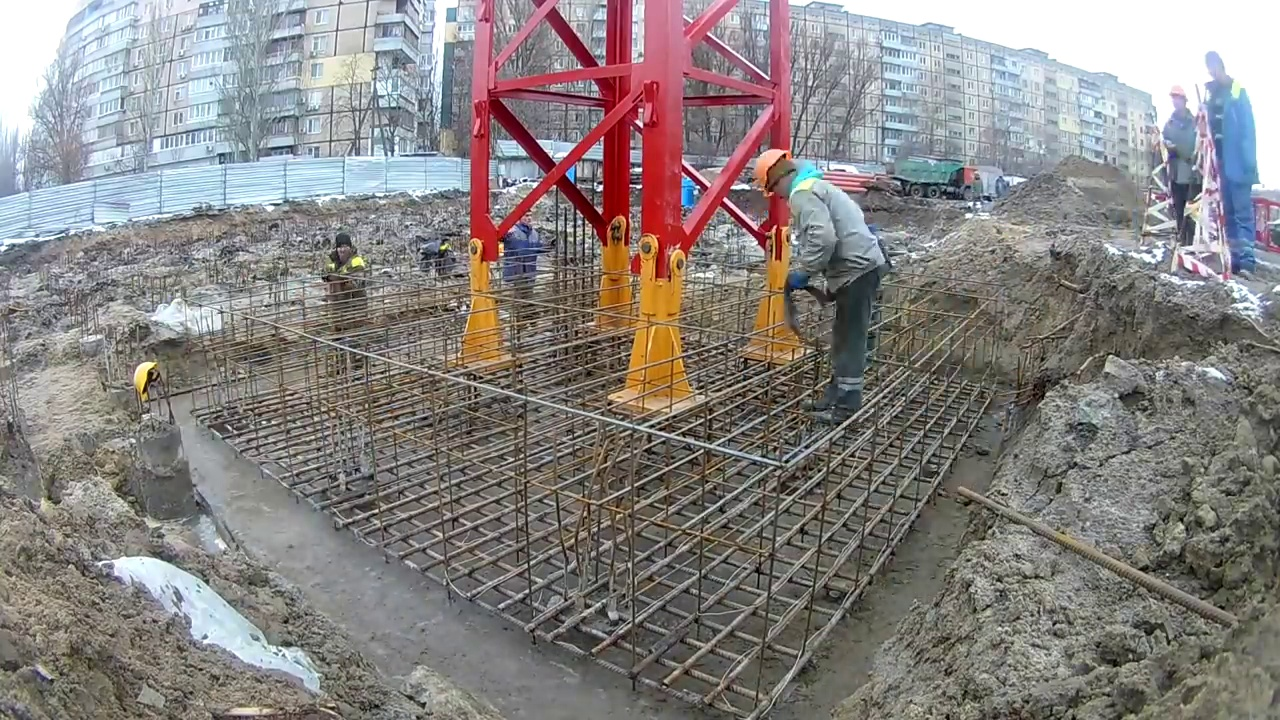helmet: (754, 148, 789, 194), (1169, 86, 1187, 100)
helmet-off: (1202, 50, 1228, 89), (335, 233, 352, 262), (515, 208, 535, 231)
helmet-on: (754, 149, 796, 202), (1168, 86, 1188, 111)
person: (754, 149, 886, 411), (1201, 50, 1262, 280), (1162, 86, 1201, 249), (500, 205, 541, 302), (321, 233, 366, 307)
